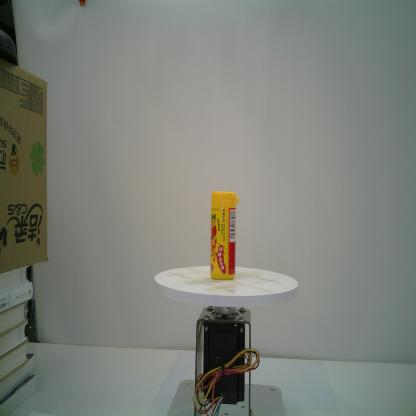Candy: (209, 190, 240, 280)
